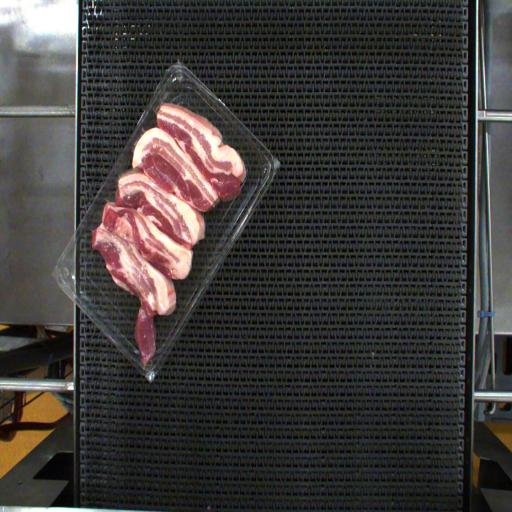loose-meat: (128, 313, 170, 371)
packaging-error: (147, 90, 170, 118)
